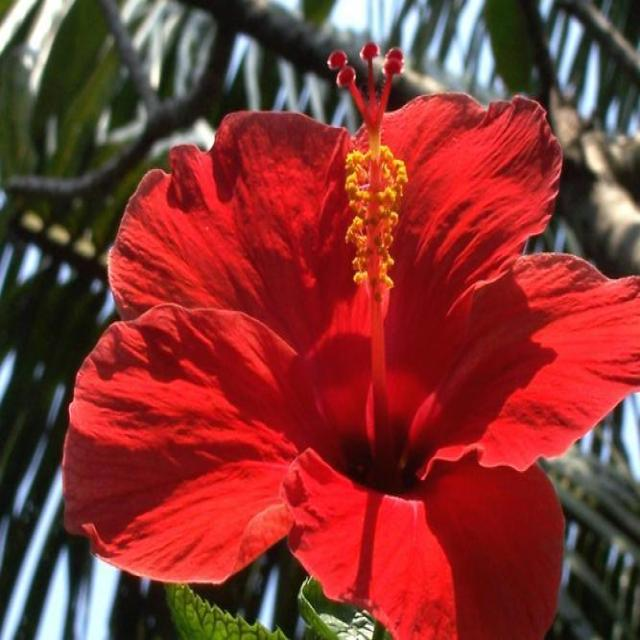hibiscus: (42, 23, 640, 640)
